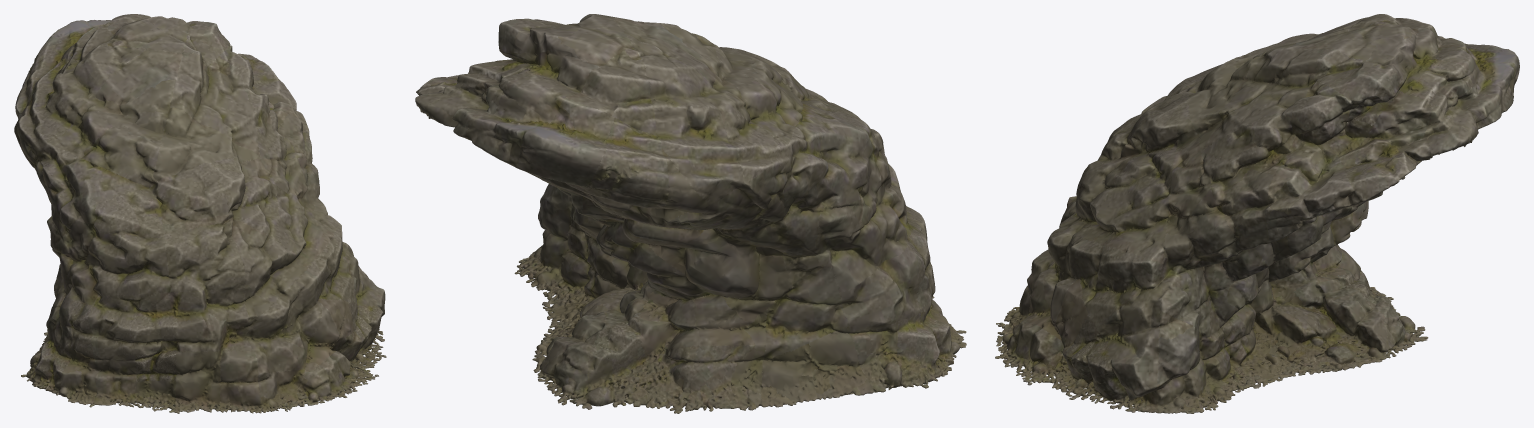
The model's file is Meshy_AI_large_hero_boulder_b_0823024910_image-to-3d-texture.glb.
The picture shows the model from 3 angles, left to right: view 1: azimuth 30°, elevation 25°; view 2: azimuth 150°, elevation 25°; view 3: azimuth 270°, elevation 25°; orthographic projection. The views are drawn at different scales.
Parts seen in each view (by area): view 1: mesh_node; view 2: mesh_node; view 3: mesh_node.
Boxes of the visible parts, <box> form: mesh_node: <box>14,14,386,413</box>; mesh_node: <box>415,14,966,413</box>; mesh_node: <box>995,14,1519,413</box>.
Bounding box in the file's own units: 1.6 × 1.23 × 1.9.
1 material, 1 textured.
